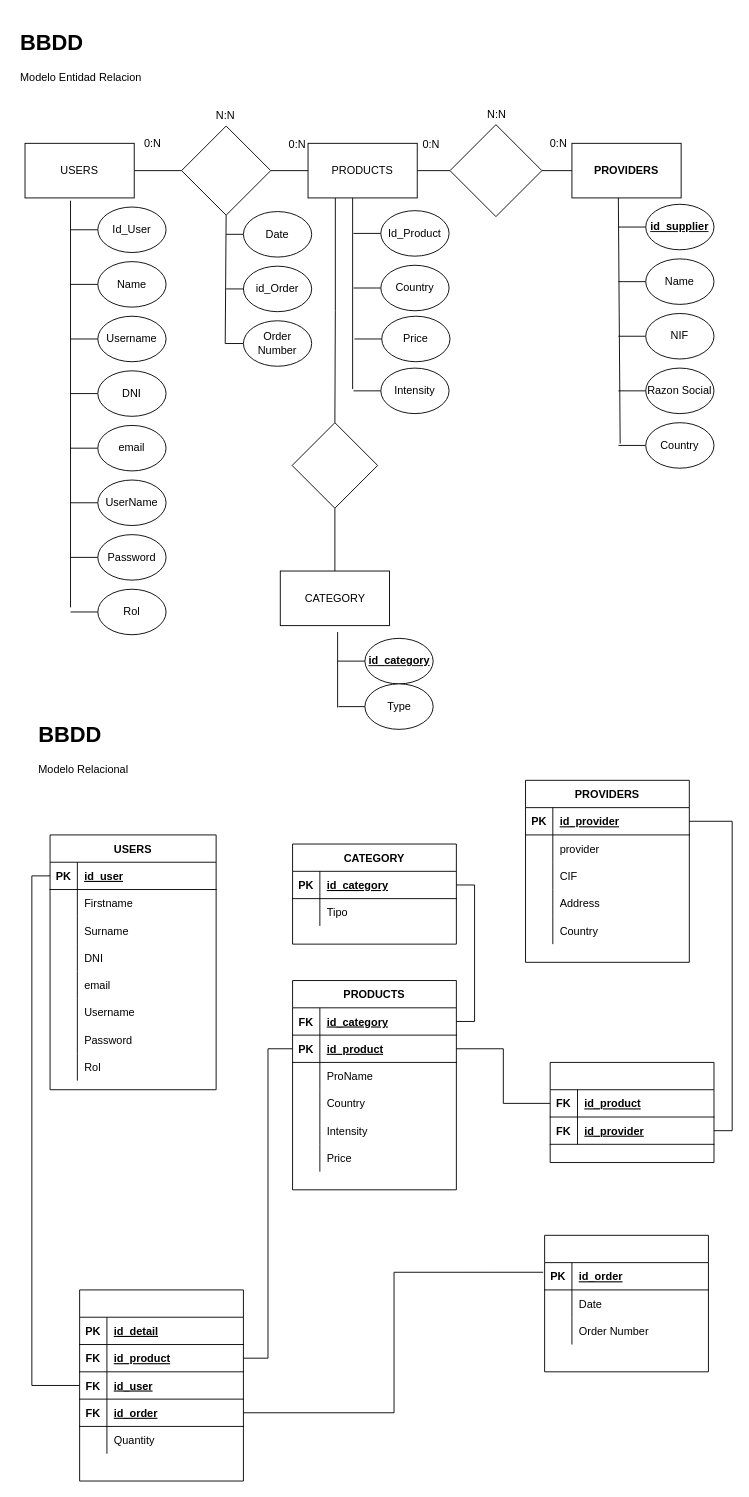
This 749x1497 diagram has some shape labels left out. The shapes that lost their labels are listed below. From the top down, each one's box as (x1, y1, x2, y2) in pixels, then its label:
(181, 125, 271, 215): BUY
(449, 124, 542, 217): SUPPLY
(291, 422, 378, 508): BELONGS
(549, 1062, 714, 1163): SUPPLIES
(544, 1234, 708, 1372): ORDERS
(79, 1289, 243, 1481): DETAILS
